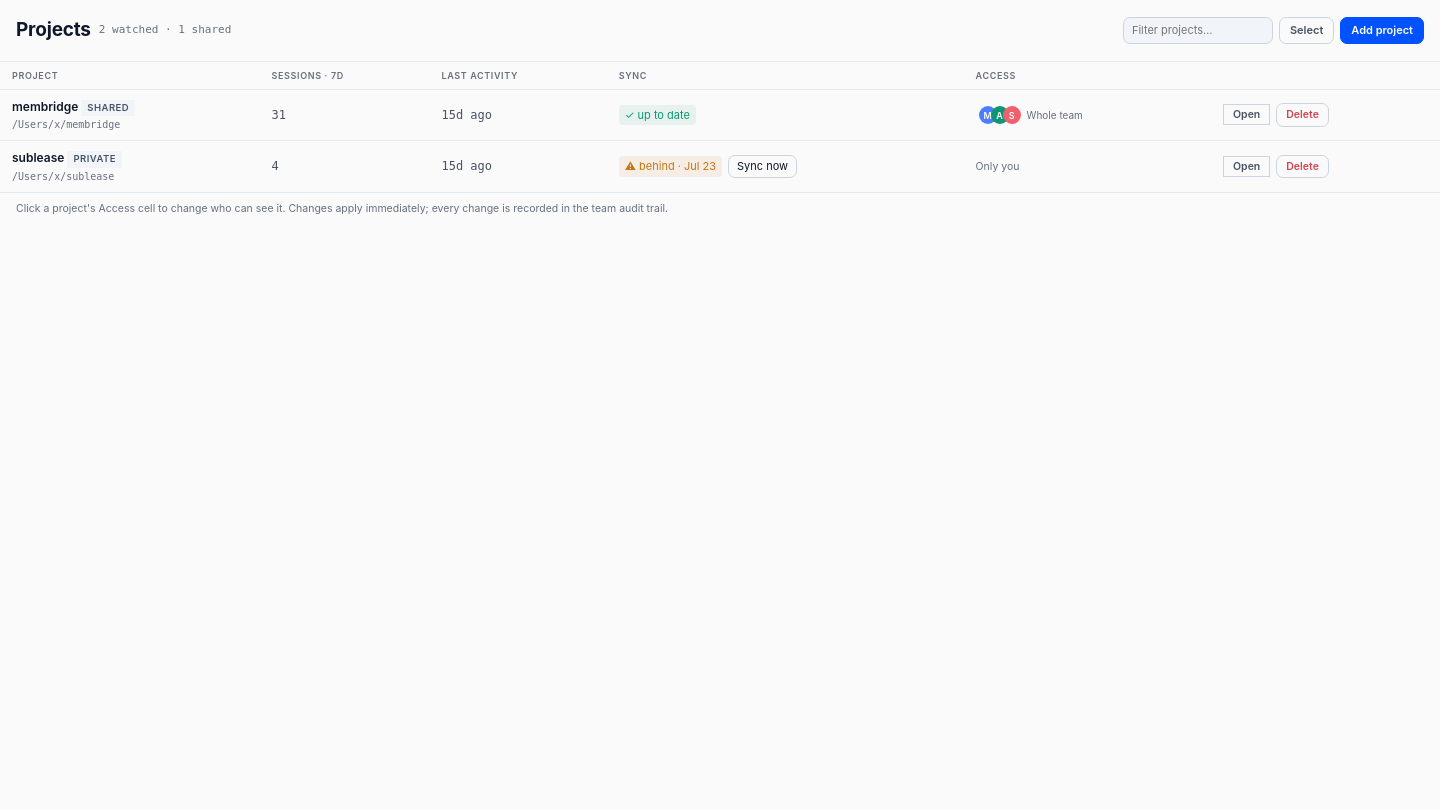
Scenario: single-project delete with a typed confirmation › is reachable for exactly ONE project at a time and names it
Click the button with aria-label "delete membridge".
click(1303, 115)  # box [1276, 103, 1329, 127]
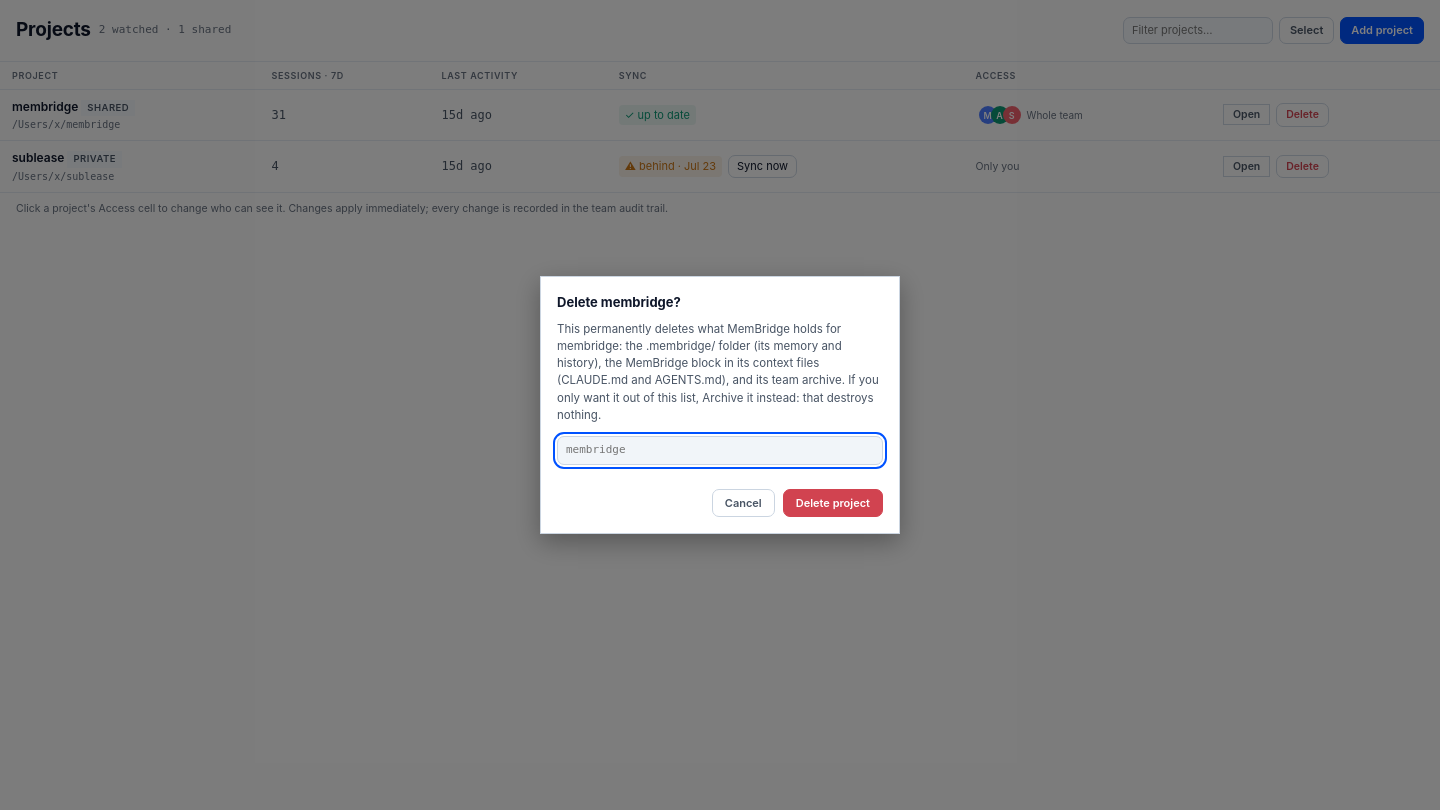
Expected: the dialog does not show "sublease"
Result: the number of dialogs is 1 at [540, 276, 900, 534]
Result: the dialog shows "membridge" at [557, 294, 681, 310]
